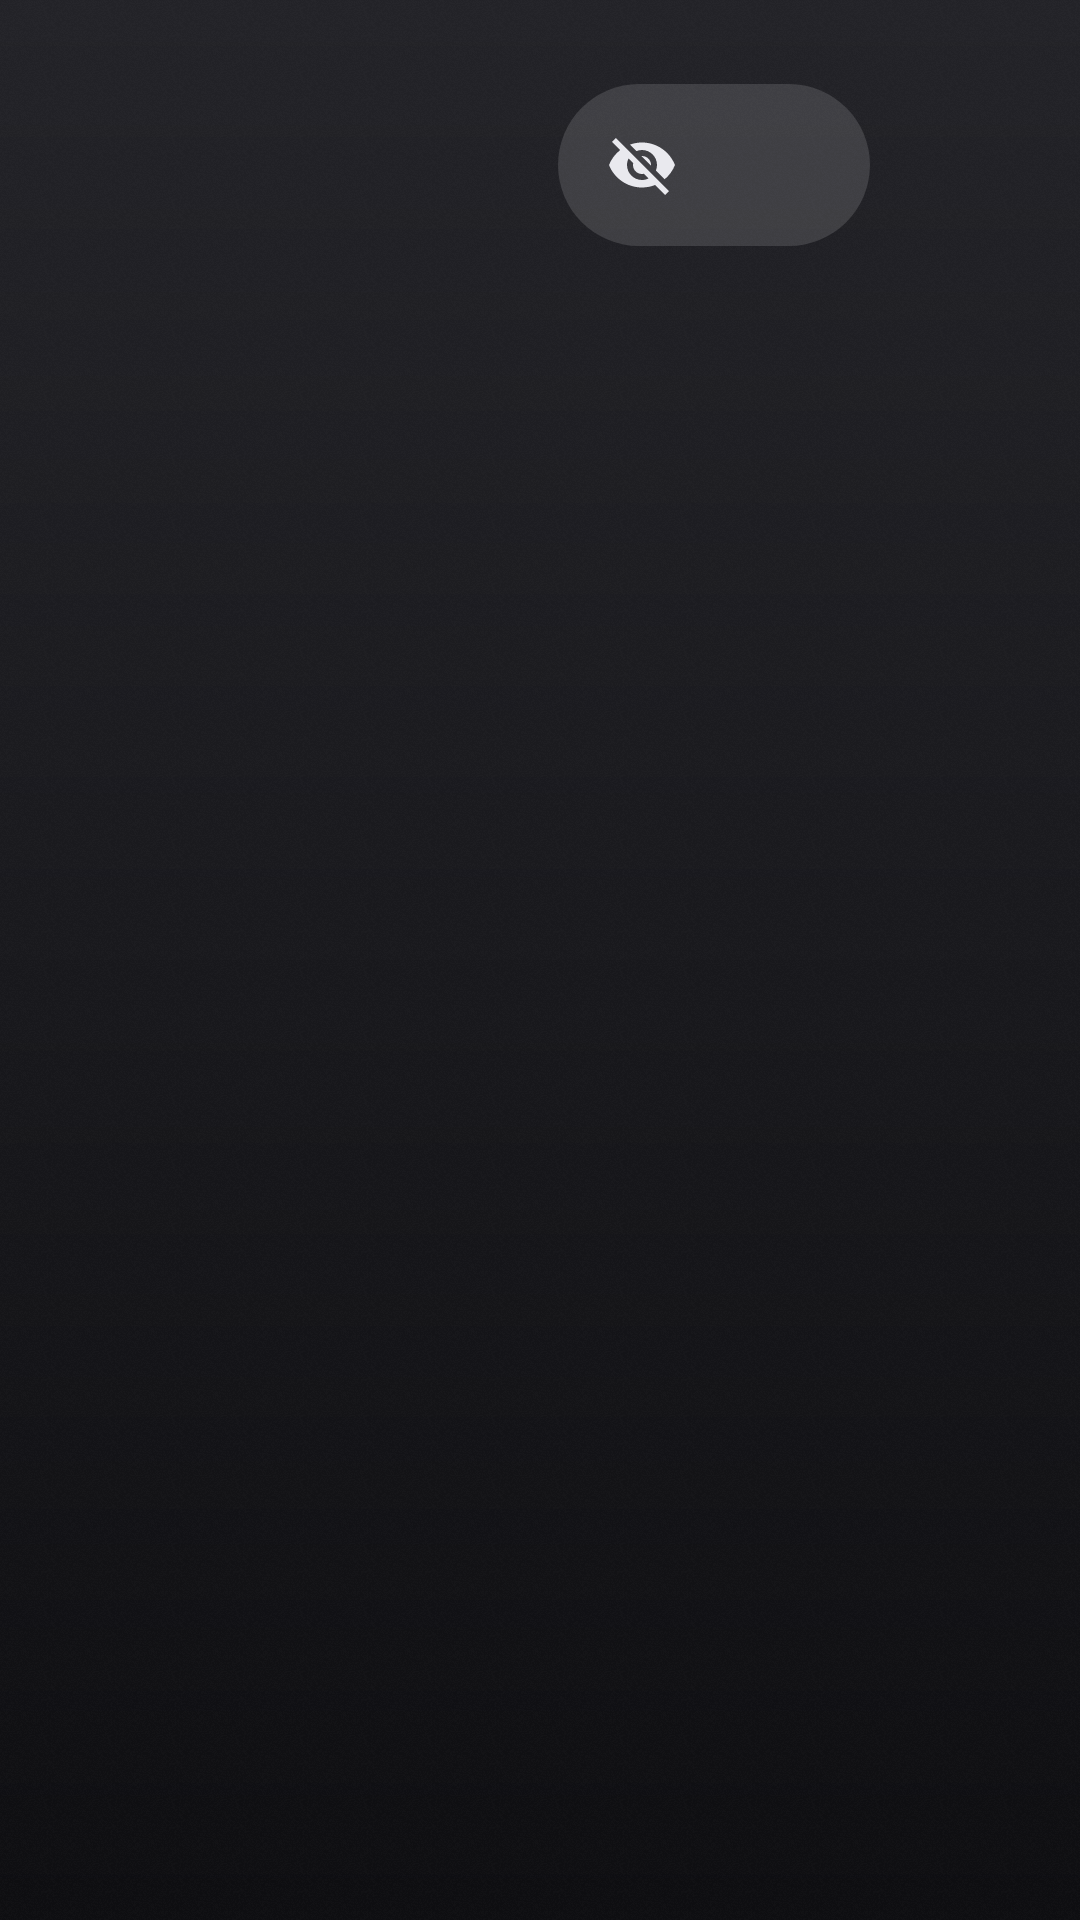

Locate icon controls on the screen. Image size 1080*1920, boxes as [x1,y1,x2,y2].
Hidden apps: [609,138,675,195]
